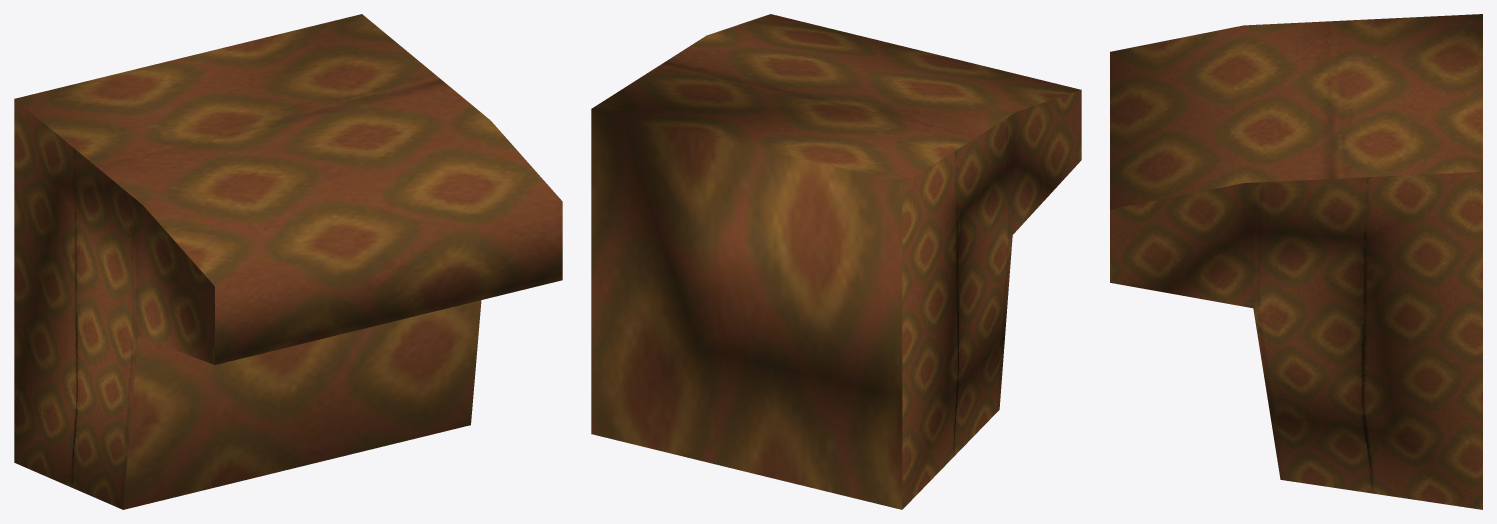
Rendered from nt_2020_moving_chair_01_LOD3.obj.
3 views of the same model, side by side, from view 1: azimuth 30°, elevation 25°; view 2: azimuth 150°, elevation 25°; view 3: azimuth 270°, elevation 25° (orthographic). The views are drawn at different scales.
Parts seen in each view (by area): view 1: mtl_nt_2020_moving_chair_01; view 2: mtl_nt_2020_moving_chair_01; view 3: mtl_nt_2020_moving_chair_01.
Boxes of the visible parts, <box> form: mtl_nt_2020_moving_chair_01: <box>14,14,562,509</box>; mtl_nt_2020_moving_chair_01: <box>591,14,1081,509</box>; mtl_nt_2020_moving_chair_01: <box>1110,14,1482,509</box>.
Bounding box in the file's own units: 91.71 × 91.71 × 91.61.
